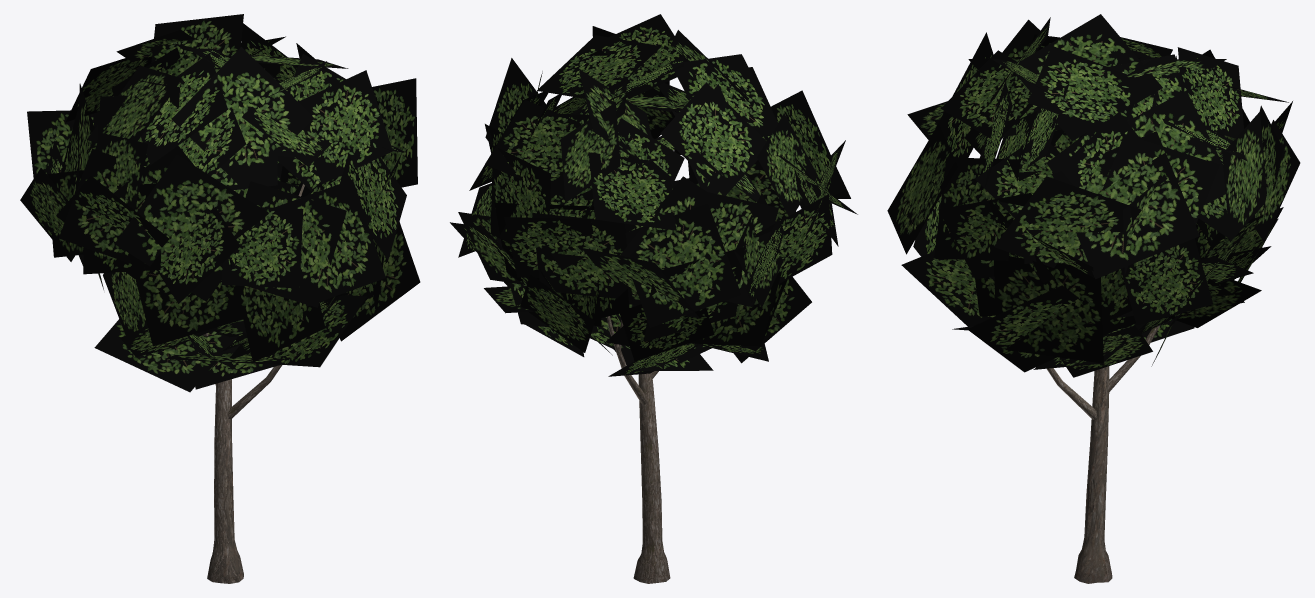
The model's file is backdrop-tree.glb.
3 views of the same model, side by side, from view 1: azimuth 30°, elevation 25°; view 2: azimuth 150°, elevation 25°; view 3: azimuth 270°, elevation 25° (orthographic). The views are drawn at different scales.
Parts seen in each view (by area): view 1: BackdropTree_Leaves, BackdropTree_Bark; view 2: BackdropTree_Leaves, BackdropTree_Bark; view 3: BackdropTree_Leaves, BackdropTree_Bark.
Part boxes in pixels (x1,y1,x2,y2): BackdropTree_Leaves: (20,14,420,392); BackdropTree_Bark: (203,184,304,583); BackdropTree_Leaves: (450,14,857,376); BackdropTree_Bark: (606,316,670,583); BackdropTree_Leaves: (887,14,1300,377); BackdropTree_Bark: (1047,325,1160,583).
Bounding box in the file's own units: 7.64 × 11.18 × 7.52.
2 materials, 2 textured.
